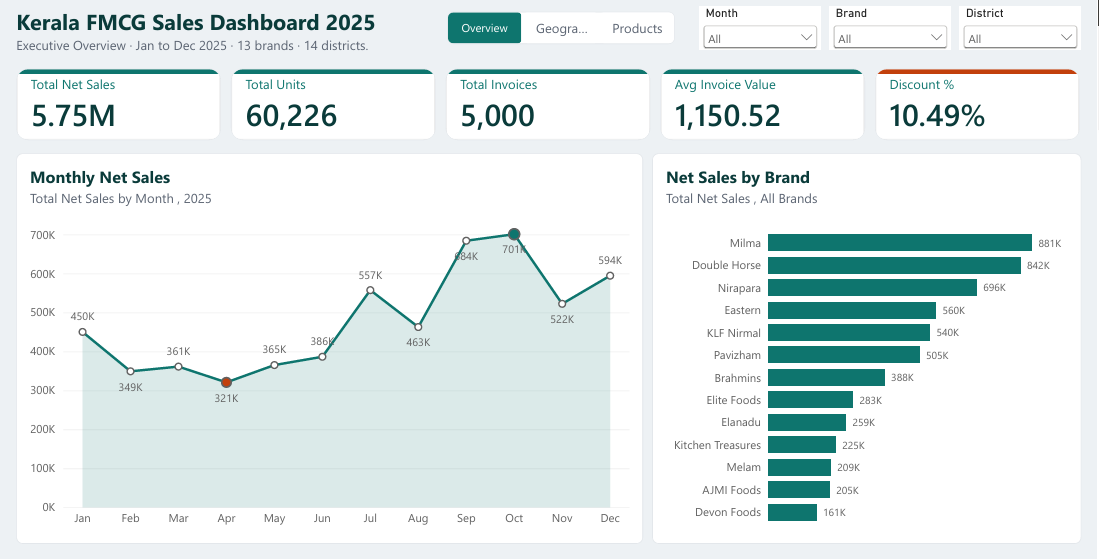

The dashboard page shown, as its layout file describes it:
{"tool":"powerbi","page":{"name":"Overview","canvas":[1350,690],"ordinal":0},"visuals":[{"type":"textbox","box":[20,10,520,62],"z":0},{"type":"slicer","fields":{"Values":["Dim_Date.Month"]},"box":[860,10,150,54],"z":1000},{"type":"slicer","fields":{"Values":["Sales.Brand"]},"box":[1020,10,150,54],"z":2000},{"type":"slicer","fields":{"Values":["Sales.District"]},"box":[1180,10,150,54],"z":3000},{"type":"cardVisual","title":"Total Net Sales","fields":{"Data":["Sales.Net Sales Card"]},"box":[20,86,252,88],"z":4000},{"type":"cardVisual","fields":{"Data":["Sales.Units Card"]},"box":[284,86,252,88],"z":5000},{"type":"cardVisual","fields":{"Data":["Sales.Invoices Card"]},"box":[548,86,252,88],"z":6000},{"type":"cardVisual","fields":{"Data":["Sales.Avg Invoice Card"]},"box":[812,86,252,88],"z":7000},{"type":"cardVisual","fields":{"Data":["Sales.Discount Card"]},"box":[1076,86,252,88],"z":8000},{"type":"lineChart","title":"Monthly Net Sales","fields":{"Category":["Dim_Date.Month"],"Y":["Sum(Sales.Net_Sales_INR)"]},"box":[20.4,190,770.4,480],"z":9000},{"type":"clusteredBarChart","title":"Net Sales by Brand","fields":{"Category":["Sales.Brand"],"Y":["Sum(Sales.Net_Sales_INR)"]},"box":[801.9,190,528,480],"z":10000},{"type":"pageNavigator","box":[550,16,280,40.3],"z":11000}]}

Visuals, with their boxes in screenshot pixels (x1, y1, x2, y2), scaled from the page's 1350x690 canvas onto the 1099x559 screenshot:
textbox: x1=16 y1=8 x2=440 y2=58
slicer - Dim_Date.Month: x1=700 y1=8 x2=822 y2=52
slicer - Sales.Brand: x1=830 y1=8 x2=952 y2=52
slicer - Sales.District: x1=961 y1=8 x2=1083 y2=52
"Total Net Sales" cardVisual: x1=16 y1=70 x2=221 y2=141
cardVisual - Sales.Units Card: x1=231 y1=70 x2=436 y2=141
cardVisual - Sales.Invoices Card: x1=446 y1=70 x2=651 y2=141
cardVisual - Sales.Avg Invoice Card: x1=661 y1=70 x2=866 y2=141
cardVisual - Sales.Discount Card: x1=876 y1=70 x2=1081 y2=141
"Monthly Net Sales" lineChart: x1=17 y1=154 x2=644 y2=543
"Net Sales by Brand" clusteredBarChart: x1=653 y1=154 x2=1083 y2=543
pageNavigator: x1=448 y1=13 x2=676 y2=46
